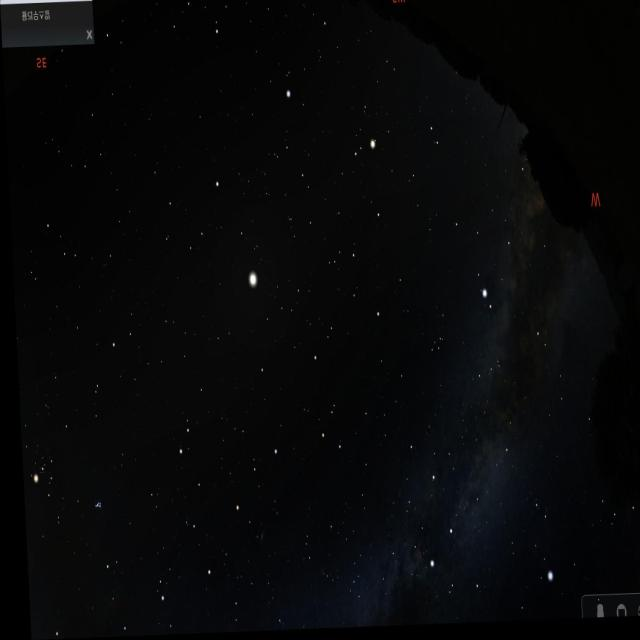aquila: (448, 177, 536, 316)
cygnus: (413, 444, 513, 602)
lyra: (529, 492, 557, 596)
pleiades: (85, 487, 104, 522)
taurus: (18, 409, 108, 552)
